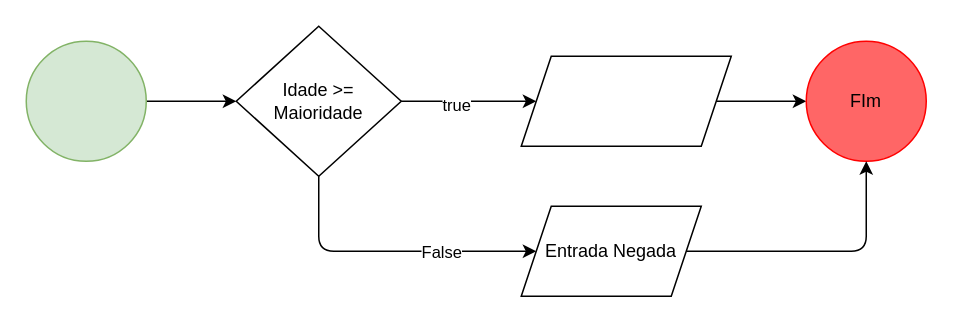
Some shapes in this 953 by 323 pixel diagram are drawn without their labels. Here are the shapes that lost their labels. From the top down, the centre of each, then its label:
At point (85, 100): "Inicio".
At point (625, 100): "Entreda Permitida".
